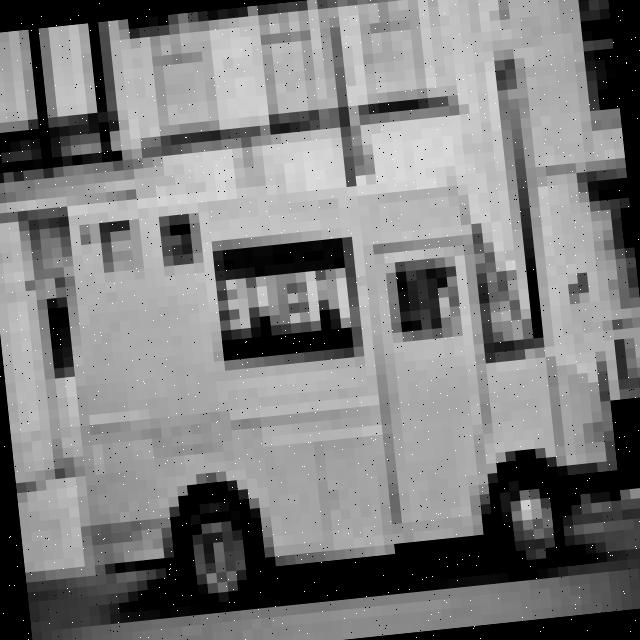trucks: (38, 154, 632, 624)
